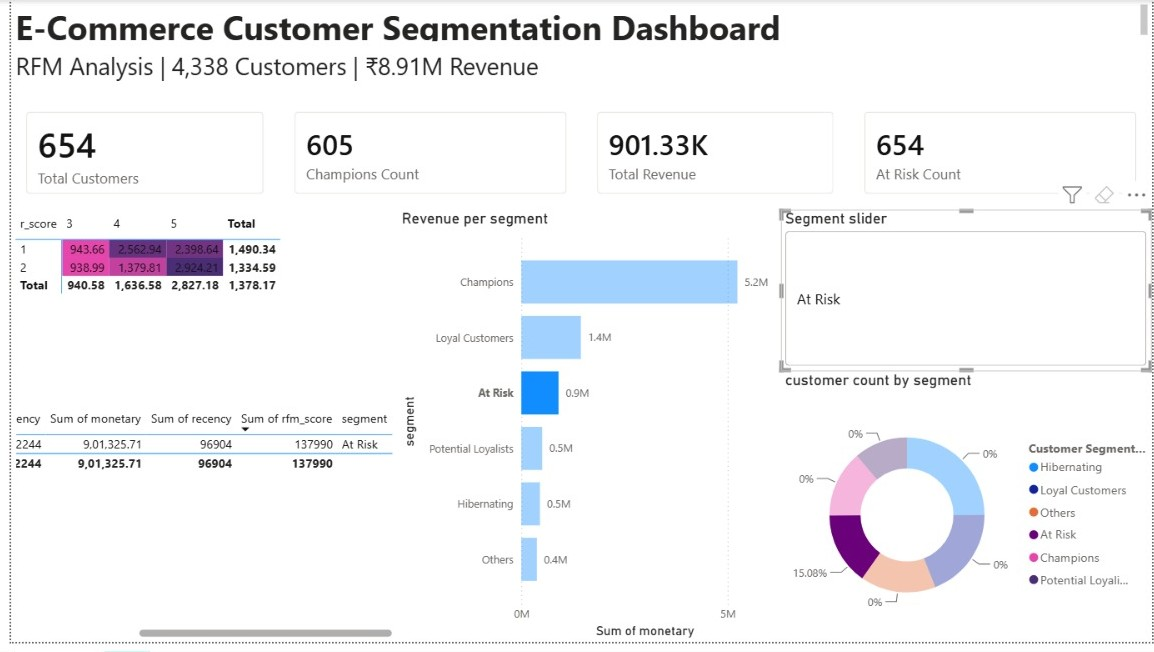

What the dashboard file says about the page in this screenshot:
{"tool":"powerbi","page":{"name":"Page 1","canvas":[1280,720],"ordinal":0},"visuals":[{"type":"cardVisual","fields":{"Data":["Count(powerbi_rfm.customerid)"]},"box":[0,108.2,300.9,126.8],"z":0},{"type":"cardVisual","fields":{"Data":["Sum(powerbi_rfm.monetary)"]},"box":[640.7,108.2,299.2,126.8],"z":1000},{"type":"cardVisual","fields":{"Data":["powerbi_rfm.Champions Count"]},"box":[300.9,108.2,339.8,126.8],"z":2000},{"type":"donutChart","title":"customer count by segment","fields":{"Category":["powerbi_rfm.segment"],"Y":["Count(powerbi_rfm.customerid)"]},"box":[863.9,415.9,415.9,304.3],"z":3000},{"type":"clusteredBarChart","title":"Revenue per segment","fields":{"Category":["powerbi_rfm.segment"],"Y":["Sum(powerbi_rfm.monetary)"]},"box":[432.8,235,431.1,485.2],"z":4000},{"type":"cardVisual","fields":{"Data":["powerbi_rfm.At Risk Count"]},"box":[939.9,108.2,339.8,126.8],"z":5000},{"type":"textbox","box":[0,0,1279.7,50.7],"z":6000},{"type":"textbox","box":[0,50.7,1279.7,57.5],"z":7000},{"type":"pivotTable","fields":{"Rows":["powerbi_rfm.r_score"],"Columns":["powerbi_rfm.f_score"],"Values":["Avg(powerbi_rfm.monetary)"]},"box":[0,235,432.8,219.8],"z":8000},{"type":"tableEx","fields":{"Values":["Sum(powerbi_rfm.customerid)","Sum(powerbi_rfm.frequency)","Sum(powerbi_rfm.monetary)","Sum(powerbi_rfm.recency)","Sum(powerbi_rfm.rfm_score)","powerbi_rfm.segment"]},"box":[0,454.8,432.8,265.4],"z":9000},{"type":"advancedSlicerVisual","title":"Segment slider","fields":{"Values":["powerbi_rfm.segment"]},"box":[863.9,235,415.9,180.9],"z":10000}]}

Visuals, with their boxes in screenshot pixels (x1, y1, x2, y2), scaled from the page's 1280x720 canvas onto the 1154x652 screenshot:
cardVisual - Count(powerbi_rfm.customerid): (left=0, top=98, right=271, bottom=213)
cardVisual - Sum(powerbi_rfm.monetary): (left=578, top=98, right=847, bottom=213)
cardVisual - powerbi_rfm.Champions Count: (left=271, top=98, right=578, bottom=213)
"customer count by segment" donutChart: (left=779, top=377, right=1153, bottom=651)
"Revenue per segment" clusteredBarChart: (left=390, top=213, right=779, bottom=651)
cardVisual - powerbi_rfm.At Risk Count: (left=847, top=98, right=1153, bottom=213)
textbox: (left=0, top=0, right=1153, bottom=46)
textbox: (left=0, top=46, right=1153, bottom=98)
pivotTable - powerbi_rfm.r_score x powerbi_rfm.f_score: (left=0, top=213, right=390, bottom=412)
tableEx - Sum(powerbi_rfm.customerid) x Sum(powerbi_rfm.frequency): (left=0, top=412, right=390, bottom=651)
"Segment slider" advancedSlicerVisual: (left=779, top=213, right=1153, bottom=377)
